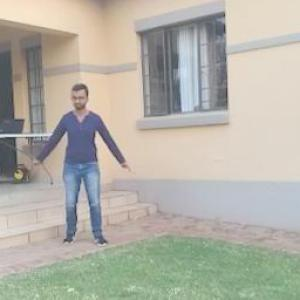land: (34, 90, 136, 252)
